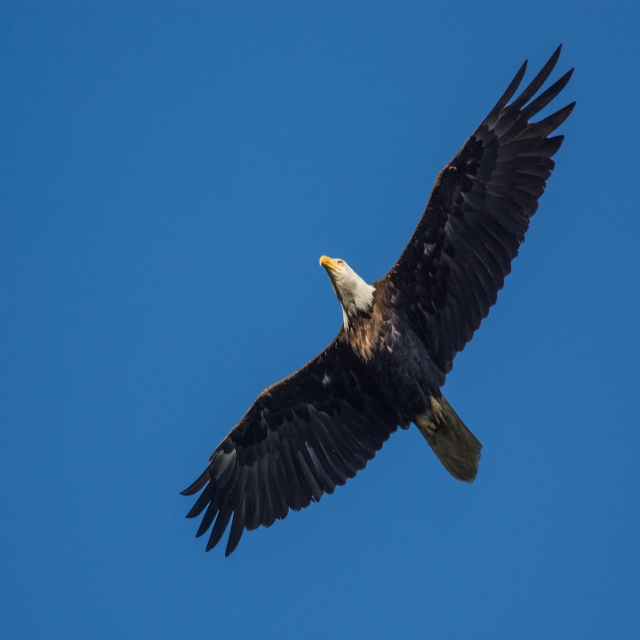Eagle: (180, 43, 576, 560)
